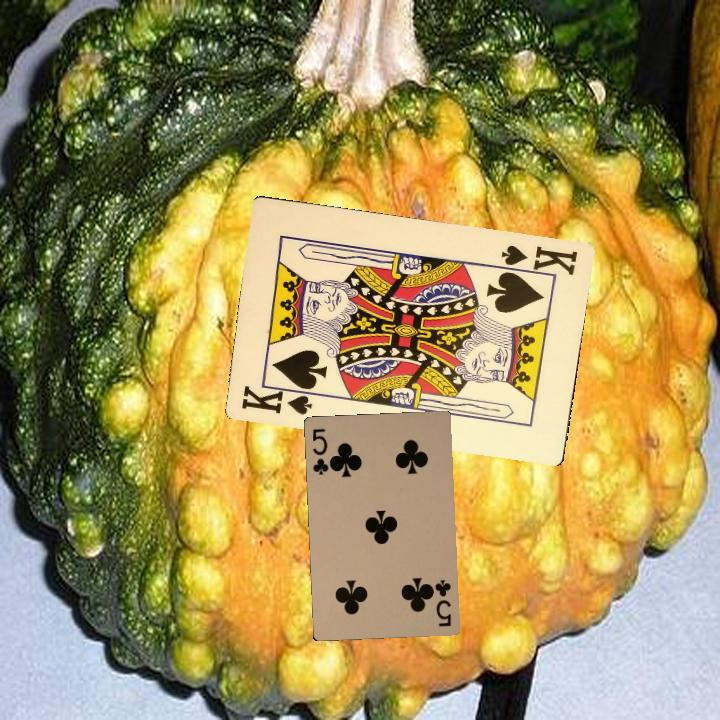5c: (428, 576, 454, 629), (308, 425, 334, 477)
Ks: (497, 241, 580, 281), (237, 379, 319, 418)
